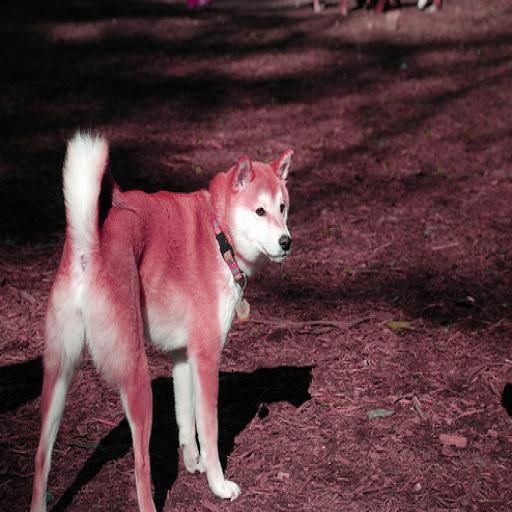dog_face: (224, 144, 307, 262)
